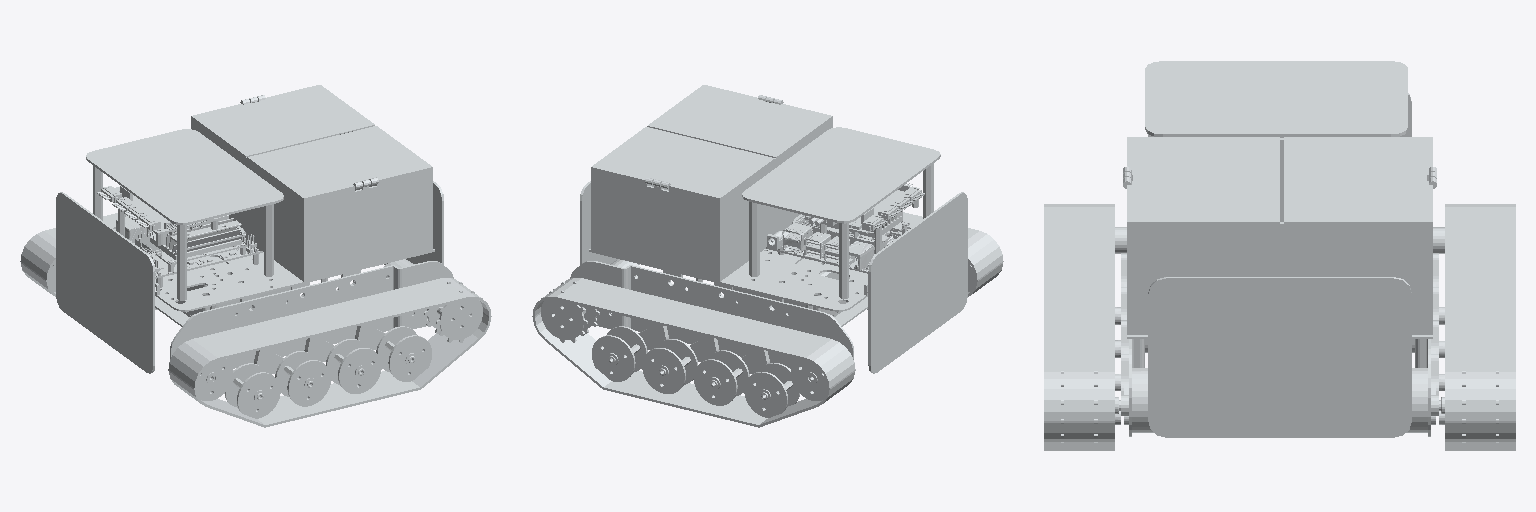
URDF robot description (mid_vel):
<?xml version="1.0" encoding="utf-8"?>
<!-- This URDF was automatically created by SolidWorks to URDF Exporter! Originally created by Stephen Brawner (brawner@gmail.com) 
     Commit Version: 1.6.0-4-g7f85cfe  Build Version: 1.6.7995.38578
     For more information, please see http://wiki.ros.org/sw_urdf_exporter -->
<robot
  name="mid_vel">

  <link name="footbase_link"/>


  <joint name="footbase_to_base_joint" type="fixed">
    <parent link="footbase_link"/>
    <child link="base_link"/>
    <origin xyz="0 0 0.03" rpy="0 0 0"/>
  </joint>

  <link
    name="base_link">
    <inertial>
      <origin
        xyz="0.026311 -0.0029309 0.037082"
        rpy="0 0 0" />
      <mass
        value="2.0626" />
      <inertia
        ixx="0.0036728"
        ixy="-1.6216E-05"
        ixz="9.1245E-06"
        iyy="0.0092421"
        iyz="8.7861E-06"
        izz="0.010609" />
    </inertial>
    <visual>
      <origin
        xyz="0 0 0"
        rpy="0 0 0" />
      <geometry>
        <mesh
          filename="package://mid_vel/meshes/base_link.STL" />
      </geometry>
      <material
        name="">
        <color
          rgba="0.89804 0.91765 0.92941 1" />
      </material>
    </visual>
    <collision>
      <origin
        xyz="0 0 0"
        rpy="0 0 0" />
      <geometry>
        <mesh
          filename="package://mid_vel/meshes/base_link.STL" />
      </geometry>
    </collision>
  </link>
  <link
    name="wh1_Link">
    <inertial>
      <origin
        xyz="-9.7145E-16 1.8735E-16 0.019953"
        rpy="0 0 0" />
      <mass
        value="0.024669" />
      <inertia
        ixx="2.3649E-06"
        ixy="-2.0339E-20"
        ixz="1.2554E-22"
        iyy="2.3649E-06"
        iyz="6.2244E-22"
        izz="2.4669E-06" />
    </inertial>
    <visual>
      <origin
        xyz="0 0 0"
        rpy="0 0 0" />
      <geometry>
        <mesh
          filename="package://mid_vel/meshes/wh1_Link.STL" />
      </geometry>
      <material
        name="">
        <color
          rgba="0.89804 0.91765 0.92941 1" />
      </material>
    </visual>
    <collision>
      <origin
        xyz="0 0 0"
        rpy="0 0 0" />
      <geometry>
        <mesh
          filename="package://mid_vel/meshes/wh1_Link.STL" />
      </geometry>
    </collision>
  </link>
  <joint
    name="wh1_joint"
    type="continuous">
    <origin
      xyz="-0.090325 0.12486 0.0105"
      rpy="1.5708 0 0" />
    <parent
      link="base_link" />
    <child
      link="wh1_Link" />
    <axis
      xyz="0 0 1" />
  </joint>
  <link
    name="wh2_Link">
    <inertial>
      <origin
        xyz="9.0206E-16 8.8818E-16 0.017031"
        rpy="0 0 0" />
      <mass
        value="0.017275" />
      <inertia
        ixx="2.8962E-06"
        ixy="3.8073E-22"
        ixz="1.5306E-21"
        iyy="2.8962E-06"
        iyz="-3.4325E-23"
        izz="2.481E-06" />
    </inertial>
    <visual>
      <origin
        xyz="0 0 0"
        rpy="0 0 0" />
      <geometry>
        <mesh
          filename="package://mid_vel/meshes/wh2_Link.STL" />
      </geometry>
      <material
        name="">
        <color
          rgba="0.89804 0.91765 0.92941 1" />
      </material>
    </visual>
    <collision>
      <origin
        xyz="0 0 0"
        rpy="0 0 0" />
      <geometry>
        <mesh
          filename="package://mid_vel/meshes/wh2_Link.STL" />
      </geometry>
    </collision>
  </link>
  <joint
    name="wh2_joint"
    type="continuous">
    <origin
      xyz="-0.046146 0.12486 -0.016278"
      rpy="1.5708 0 0" />
    <parent
      link="base_link" />
    <child
      link="wh2_Link" />
    <axis
      xyz="0 0 1" />
  </joint>
  <link
    name="wh3_Link">
    <inertial>
      <origin
        xyz="9.0379E-16 8.743E-16 0.017031"
        rpy="0 0 0" />
      <mass
        value="0.017275" />
      <inertia
        ixx="2.8962E-06"
        ixy="4.4193E-22"
        ixz="1.5609E-21"
        iyy="2.8962E-06"
        iyz="-5.2332E-23"
        izz="2.481E-06" />
    </inertial>
    <visual>
      <origin
        xyz="0 0 0"
        rpy="0 0 0" />
      <geometry>
        <mesh
          filename="package://mid_vel/meshes/wh3_Link.STL" />
      </geometry>
      <material
        name="">
        <color
          rgba="0.89804 0.91765 0.92941 1" />
      </material>
    </visual>
    <collision>
      <origin
        xyz="0 0 0"
        rpy="0 0 0" />
      <geometry>
        <mesh
          filename="package://mid_vel/meshes/wh3_Link.STL" />
      </geometry>
    </collision>
  </link>
  <joint
    name="wh3_joint"
    type="continuous">
    <origin
      xyz="-0.001146 0.12486 -0.016278"
      rpy="1.5708 0 0" />
    <parent
      link="base_link" />
    <child
      link="wh3_Link" />
    <axis
      xyz="0 0 1" />
  </joint>
  <link
    name="wh4_Link">
    <inertial>
      <origin
        xyz="9.3675E-16 8.743E-16 0.015531"
        rpy="0 0 0" />
      <mass
        value="0.017275" />
      <inertia
        ixx="2.8962E-06"
        ixy="4.4405E-22"
        ixz="1.5378E-21"
        iyy="2.8962E-06"
        iyz="-4.9563E-23"
        izz="2.481E-06" />
    </inertial>
    <visual>
      <origin
        xyz="0 0 0"
        rpy="0 0 0" />
      <geometry>
        <mesh
          filename="package://mid_vel/meshes/wh4_Link.STL" />
      </geometry>
      <material
        name="">
        <color
          rgba="0.89804 0.91765 0.92941 1" />
      </material>
    </visual>
    <collision>
      <origin
        xyz="0 0 0"
        rpy="0 0 0" />
      <geometry>
        <mesh
          filename="package://mid_vel/meshes/wh4_Link.STL" />
      </geometry>
    </collision>
  </link>
  <joint
    name="wh4_joint"
    type="continuous">
    <origin
      xyz="0.043854 0.12486 -0.016278"
      rpy="1.5708 0 0" />
    <parent
      link="base_link" />
    <child
      link="wh4_Link" />
    <axis
      xyz="0 0 1" />
  </joint>
  <link
    name="wh5_Link">
    <inertial>
      <origin
        xyz="9.4369E-16 8.743E-16 0.015531"
        rpy="0 0 0" />
      <mass
        value="0.017275" />
      <inertia
        ixx="2.8962E-06"
        ixy="3.9252E-22"
        ixz="1.5289E-21"
        iyy="2.8962E-06"
        iyz="-1.4018E-23"
        izz="2.481E-06" />
    </inertial>
    <visual>
      <origin
        xyz="0 0 0"
        rpy="0 0 0" />
      <geometry>
        <mesh
          filename="package://mid_vel/meshes/wh5_Link.STL" />
      </geometry>
      <material
        name="">
        <color
          rgba="0.89804 0.91765 0.92941 1" />
      </material>
    </visual>
    <collision>
      <origin
        xyz="0 0 0"
        rpy="0 0 0" />
      <geometry>
        <mesh
          filename="package://mid_vel/meshes/wh5_Link.STL" />
      </geometry>
    </collision>
  </link>
  <joint
    name="wh5_joint"
    type="continuous">
    <origin
      xyz="0.088854 0.12486 -0.016278"
      rpy="1.5708 0 0" />
    <parent
      link="base_link" />
    <child
      link="wh5_Link" />
    <axis
      xyz="0 0 1" />
  </joint>
  <link
    name="wh6_Link">
    <inertial>
      <origin
        xyz="2.8186E-12 7.0472E-12 0.013031"
        rpy="0 0 0" />
      <mass
        value="0.018562" />
      <inertia
        ixx="1.5501E-06"
        ixy="2.6187E-16"
        ixz="-5.1823E-16"
        iyy="1.5501E-06"
        iyz="-1.2921E-15"
        izz="2.8242E-06" />
    </inertial>
    <visual>
      <origin
        xyz="0 0 0"
        rpy="0 0 0" />
      <geometry>
        <mesh
          filename="package://mid_vel/meshes/wh6_Link.STL" />
      </geometry>
      <material
        name="">
        <color
          rgba="0.89804 0.91765 0.92941 1" />
      </material>
    </visual>
    <collision>
      <origin
        xyz="0 0 0"
        rpy="0 0 0" />
      <geometry>
        <mesh
          filename="package://mid_vel/meshes/wh6_Link.STL" />
      </geometry>
    </collision>
  </link>
  <joint
    name="wh6_joint"
    type="continuous">
    <origin
      xyz="0.13217 0.12466 0.0105"
      rpy="1.5708 0 0" />
    <parent
      link="base_link" />
    <child
      link="wh6_Link" />
    <axis
      xyz="0 0 1" />
  </joint>
  <link
    name="wh7_Link">
    <inertial>
      <origin
        xyz="1.0963E-15 1.8041E-16 -0.019945"
        rpy="0 0 0" />
      <mass
        value="0.024652" />
      <inertia
        ixx="2.3643E-06"
        ixy="1.7908E-20"
        ixz="2.2341E-22"
        iyy="2.3643E-06"
        iyz="1.1221E-21"
        izz="2.4665E-06" />
    </inertial>
    <visual>
      <origin
        xyz="0 0 0"
        rpy="0 0 0" />
      <geometry>
        <mesh
          filename="package://mid_vel/meshes/wh7_Link.STL" />
      </geometry>
      <material
        name="">
        <color
          rgba="0.89804 0.91765 0.92941 1" />
      </material>
    </visual>
    <collision>
      <origin
        xyz="0 0 0"
        rpy="0 0 0" />
      <geometry>
        <mesh
          filename="package://mid_vel/meshes/wh7_Link.STL" />
      </geometry>
    </collision>
  </link>
  <joint
    name="wh7_joint"
    type="continuous">
    <origin
      xyz="-0.090325 -0.125 0.0105"
      rpy="1.5708 0 0" />
    <parent
      link="base_link" />
    <child
      link="wh7_Link" />
    <axis
      xyz="0 0 -1" />
  </joint>
  <link
    name="wh8_Link">
    <inertial>
      <origin
        xyz="-5.9674E-16 -1.1519E-15 -0.015531"
        rpy="0 0 0" />
      <mass
        value="0.017275" />
      <inertia
        ixx="2.8962E-06"
        ixy="-3.8209E-22"
        ixz="1.4565E-21"
        iyy="2.8962E-06"
        iyz="9.4776E-24"
        izz="2.481E-06" />
    </inertial>
    <visual>
      <origin
        xyz="0 0 0"
        rpy="0 0 0" />
      <geometry>
        <mesh
          filename="package://mid_vel/meshes/wh8_Link.STL" />
      </geometry>
      <material
        name="">
        <color
          rgba="0.89804 0.91765 0.92941 1" />
      </material>
    </visual>
    <collision>
      <origin
        xyz="0 0 0"
        rpy="0 0 0" />
      <geometry>
        <mesh
          filename="package://mid_vel/meshes/wh8_Link.STL" />
      </geometry>
    </collision>
  </link>
  <joint
    name="wh8_joint"
    type="continuous">
    <origin
      xyz="-0.046146 -0.125 -0.016278"
      rpy="1.5708 0 0" />
    <parent
      link="base_link" />
    <child
      link="wh8_Link" />
    <axis
      xyz="0 0 -1" />
  </joint>
  <link
    name="wh9_Link">
    <inertial>
      <origin
        xyz="-5.7896E-16 -1.138E-15 -0.015531"
        rpy="0 0 0" />
      <mass
        value="0.017275" />
      <inertia
        ixx="2.8962E-06"
        ixy="-4.204E-22"
        ixz="1.5299E-21"
        iyy="2.8962E-06"
        iyz="6.0999E-23"
        izz="2.481E-06" />
    </inertial>
    <visual>
      <origin
        xyz="0 0 0"
        rpy="0 0 0" />
      <geometry>
        <mesh
          filename="package://mid_vel/meshes/wh9_Link.STL" />
      </geometry>
      <material
        name="">
        <color
          rgba="0.89804 0.91765 0.92941 1" />
      </material>
    </visual>
    <collision>
      <origin
        xyz="0 0 0"
        rpy="0 0 0" />
      <geometry>
        <mesh
          filename="package://mid_vel/meshes/wh9_Link.STL" />
      </geometry>
    </collision>
  </link>
  <joint
    name="wh9_joint"
    type="continuous">
    <origin
      xyz="-0.001146 -0.125 -0.016278"
      rpy="1.5708 0 0" />
    <parent
      link="base_link" />
    <child
      link="wh9_Link" />
    <axis
      xyz="0 0 -1" />
  </joint>
  <link
    name="wh10_Link">
    <inertial>
      <origin
        xyz="-5.8981E-16 -1.1519E-15 -0.015531"
        rpy="0 0 0" />
      <mass
        value="0.017275" />
      <inertia
        ixx="2.8962E-06"
        ixy="-3.8945E-22"
        ixz="1.5279E-21"
        iyy="2.8962E-06"
        iyz="3.3173E-23"
        izz="2.481E-06" />
    </inertial>
    <visual>
      <origin
        xyz="0 0 0"
        rpy="0 0 0" />
      <geometry>
        <mesh
          filename="package://mid_vel/meshes/wh10_Link.STL" />
      </geometry>
      <material
        name="">
        <color
          rgba="0.89804 0.91765 0.92941 1" />
      </material>
    </visual>
    <collision>
      <origin
        xyz="0 0 0"
        rpy="0 0 0" />
      <geometry>
        <mesh
          filename="package://mid_vel/meshes/wh10_Link.STL" />
      </geometry>
    </collision>
  </link>
  <joint
    name="wh10_joint"
    type="continuous">
    <origin
      xyz="0.043854 -0.125 -0.016278"
      rpy="1.5708 0 0" />
    <parent
      link="base_link" />
    <child
      link="wh10_Link" />
    <axis
      xyz="0 0 -1" />
  </joint>
  <link
    name="wh11_Link">
    <inertial>
      <origin
        xyz="-6.1062E-16 -1.1519E-15 -0.015531"
        rpy="0 0 0" />
      <mass
        value="0.017275" />
      <inertia
        ixx="2.8962E-06"
        ixy="-3.9034E-22"
        ixz="1.5279E-21"
        iyy="2.8962E-06"
        iyz="1.4463E-23"
        izz="2.481E-06" />
    </inertial>
    <visual>
      <origin
        xyz="0 0 0"
        rpy="0 0 0" />
      <geometry>
        <mesh
          filename="package://mid_vel/meshes/wh11_Link.STL" />
      </geometry>
      <material
        name="">
        <color
          rgba="0.89804 0.91765 0.92941 1" />
      </material>
    </visual>
    <collision>
      <origin
        xyz="0 0 0"
        rpy="0 0 0" />
      <geometry>
        <mesh
          filename="package://mid_vel/meshes/wh11_Link.STL" />
      </geometry>
    </collision>
  </link>
  <joint
    name="wh11_joint"
    type="continuous">
    <origin
      xyz="0.088854 -0.125 -0.016278"
      rpy="1.5708 0 0" />
    <parent
      link="base_link" />
    <child
      link="wh11_Link" />
    <axis
      xyz="0 0 -1" />
  </joint>
  <link
    name="wh12_Link">
    <inertial>
      <origin
        xyz="-7.7161E-15 4.885E-15 -0.012804"
        rpy="0 0 0" />
      <mass
        value="0.020392" />
      <inertia
        ixx="1.6011E-06"
        ixy="-8.2636E-19"
        ixz="-3.19E-19"
        iyy="1.6011E-06"
        iyz="1.155E-18"
        izz="2.8377E-06" />
    </inertial>
    <visual>
      <origin
        xyz="0 0 0"
        rpy="0 0 0" />
      <geometry>
        <mesh
          filename="package://mid_vel/meshes/wh12_Link.STL" />
      </geometry>
      <material
        name="">
        <color
          rgba="0.89804 0.91765 0.92941 1" />
      </material>
    </visual>
    <collision>
      <origin
        xyz="0 0 0"
        rpy="0 0 0" />
      <geometry>
        <mesh
          filename="package://mid_vel/meshes/wh12_Link.STL" />
      </geometry>
    </collision>
  </link>
  <joint
    name="wh12_joint"
    type="continuous">
    <origin
      xyz="0.13217 -0.1248 0.0105"
      rpy="1.5708 0 0" />
    <parent
      link="base_link" />
    <child
      link="wh12_Link" />
    <axis
      xyz="0 0 -1" />
  </joint>
  <link
    name="imu_Link">
    <inertial>
      <origin
        xyz="-0.0016587 0.0035463 0.001359"
        rpy="0 0 0" />
      <mass
        value="0.053369" />
      <inertia
        ixx="3.5938E-05"
        ixy="8.4855E-07"
        ixz="-8.9893E-07"
        iyy="1.9163E-05"
        iyz="8.83E-07"
        izz="5.2579E-05" />
    </inertial>
    <visual>
      <origin
        xyz="0 0 0"
        rpy="0 0 0" />
      <geometry>
        <mesh
          filename="package://mid_vel/meshes/imu_Link.STL" />
      </geometry>
      <material
        name="">
        <color
          rgba="0.89804 0.91765 0.92941 1" />
      </material>
    </visual>
    <collision>
      <origin
        xyz="0 0 0"
        rpy="0 0 0" />
      <geometry>
        <mesh
          filename="package://mid_vel/meshes/imu_Link.STL" />
      </geometry>
    </collision>
  </link>
  <joint
    name="imu_joint"
    type="fixed">
    <origin
      xyz="-0.062457 -0.0024843 0.10118"
      rpy="0 0 0" />
    <parent
      link="base_link" />
    <child
      link="imu_Link" />
    <axis
      xyz="0 0 0" />
  </joint>
  <link
    name="contorl_Link">
    <inertial>
      <origin
        xyz="0.0035953 0.009045 -0.012657"
        rpy="0 0 0" />
      <mass
        value="0.0015511" />
      <inertia
        ixx="1.5915E-08"
        ixy="5.898E-27"
        ixz="3.6179E-23"
        iyy="1.5915E-08"
        iyz="4.2409E-25"
        izz="5.4092E-09" />
    </inertial>
    <visual>
      <origin
        xyz="0 0 0"
        rpy="0 0 0" />
      <geometry>
        <mesh
          filename="package://mid_vel/meshes/contorl_Link.STL" />
      </geometry>
      <material
        name="">
        <color
          rgba="0.89804 0.91765 0.92941 1" />
      </material>
    </visual>
    <collision>
      <origin
        xyz="0 0 0"
        rpy="0 0 0" />
      <geometry>
        <mesh
          filename="package://mid_vel/meshes/contorl_Link.STL" />
      </geometry>
    </collision>
  </link>
  <joint
    name="contorl_joint"
    type="fixed">
    <origin
      xyz="-0.045863 -0.02051 0.071271"
      rpy="0 0 0" />
    <parent
      link="base_link" />
    <child
      link="contorl_Link" />
    <axis
      xyz="0 0 0" />
  </joint>
  <gazebo reference="base_link">
    <material>Gazebo/Grey</material>
    <mu1>0.0</mu1>
    <mu2>0.0</mu2>
    <kp>1000000.0</kp>
    <kd>100.0</kd>
    <minDepth>0.001</minDepth>
    <maxVel>1.0</maxVel>
  </gazebo>

  <gazebo reference="wh1_Link">
    <mu1>2.0</mu1><mu2>1.0</mu2>
    <kp>100000.0</kp><kd>10.0</kd>
    <minDepth>0.001</minDepth><maxVel>0.1</maxVel>
    <material>Gazebo/DarkGrey</material>
  </gazebo>
  <gazebo reference="wh2_Link">
    <mu1>2.0</mu1><mu2>1.0</mu2>
    <kp>100000.0</kp><kd>10.0</kd>
    <minDepth>0.001</minDepth><maxVel>0.1</maxVel>
    <material>Gazebo/DarkGrey</material>
  </gazebo>
  <gazebo reference="wh3_Link">
    <mu1>2.0</mu1><mu2>1.0</mu2>
    <kp>100000.0</kp><kd>10.0</kd>
    <minDepth>0.001</minDepth><maxVel>0.1</maxVel>
    <material>Gazebo/DarkGrey</material>
  </gazebo>
  <gazebo reference="wh4_Link">
    <mu1>2.0</mu1><mu2>1.0</mu2>
    <kp>100000.0</kp><kd>10.0</kd>
    <minDepth>0.001</minDepth><maxVel>0.1</maxVel>
    <material>Gazebo/DarkGrey</material>
  </gazebo>
  <gazebo reference="wh5_Link">
    <mu1>2.0</mu1><mu2>1.0</mu2>
    <kp>100000.0</kp><kd>10.0</kd>
    <minDepth>0.001</minDepth><maxVel>0.1</maxVel>
    <material>Gazebo/DarkGrey</material>
  </gazebo>
  <gazebo reference="wh6_Link">
    <mu1>2.0</mu1><mu2>1.0</mu2>
    <kp>100000.0</kp><kd>10.0</kd>
    <minDepth>0.001</minDepth><maxVel>0.1</maxVel>
    <material>Gazebo/DarkGrey</material>
  </gazebo>

  <gazebo reference="wh7_Link">
    <mu1>2.0</mu1><mu2>1.0</mu2>
    <kp>100000.0</kp><kd>10.0</kd>
    <minDepth>0.001</minDepth><maxVel>0.1</maxVel>
    <material>Gazebo/DarkGrey</material>
  </gazebo>
  <gazebo reference="wh8_Link">
    <mu1>2.0</mu1><mu2>1.0</mu2>
    <kp>100000.0</kp><kd>10.0</kd>
    <minDepth>0.001</minDepth><maxVel>0.1</maxVel>
    <material>Gazebo/DarkGrey</material>
  </gazebo>
  <gazebo reference="wh9_Link">
    <mu1>2.0</mu1><mu2>1.0</mu2>
    <kp>100000.0</kp><kd>10.0</kd>
    <minDepth>0.001</minDepth><maxVel>0.1</maxVel>
    <material>Gazebo/DarkGrey</material>
  </gazebo>
  <gazebo reference="wh10_Link">
    <mu1>2.0</mu1><mu2>1.0</mu2>
    <kp>100000.0</kp><kd>10.0</kd>
    <minDepth>0.001</minDepth><maxVel>0.1</maxVel>
    <material>Gazebo/DarkGrey</material>
  </gazebo>
  <gazebo reference="wh11_Link">
    <mu1>2.0</mu1><mu2>1.0</mu2>
    <kp>100000.0</kp><kd>10.0</kd>
    <minDepth>0.001</minDepth><maxVel>0.1</maxVel>
    <material>Gazebo/DarkGrey</material>
  </gazebo>
  <gazebo reference="wh12_Link">
    <mu1>2.0</mu1><mu2>1.0</mu2>
    <kp>100000.0</kp><kd>10.0</kd>
    <minDepth>0.001</minDepth><maxVel>0.1</maxVel>
    <material>Gazebo/DarkGrey</material>
  </gazebo>

  <gazebo>
    <plugin name="planar_move" filename="libgazebo_ros_planar_move.so">
      <commandTopic>cmd_vel</commandTopic>
      <odometryTopic>odom</odometryTopic>
      <odometryFrame>odom</odometryFrame>
      <robotBaseFrame>base_link</robotBaseFrame>
      <odometryRate>50.0</odometryRate>
      <publishOdomTF>true</publishOdomTF>
    </plugin>
  </gazebo>

  <gazebo>
    <plugin name="p3d_base_controller" filename="libgazebo_ros_p3d.so">
      <alwaysOn>true</alwaysOn>
      <updateRate>50.0</updateRate>
      <bodyName>base_link</bodyName>
      <topicName>ground_truth/state</topicName>
      <gaussianNoise>0.01</gaussianNoise>
      <frameName>world</frameName>
      <xyzOffset>0 0 0</xyzOffset>
      <rpyOffset>0 0 0</rpyOffset>
    </plugin>
  </gazebo>

  <gazebo>
    <plugin name="joint_state_publisher" filename="libgazebo_ros_joint_state_publisher.so">
      <update_rate>50</update_rate>
      <joint_name>wh1_joint</joint_name>
      <joint_name>wh2_joint</joint_name>
      <joint_name>wh3_joint</joint_name>
      <joint_name>wh4_joint</joint_name>
      <joint_name>wh5_joint</joint_name>
      <joint_name>wh6_joint</joint_name>
      <joint_name>wh7_joint</joint_name>
      <joint_name>wh8_joint</joint_name>
      <joint_name>wh9_joint</joint_name>
      <joint_name>wh10_joint</joint_name>
      <joint_name>wh11_joint</joint_name>
      <joint_name>wh12_joint</joint_name>
    </plugin>
  </gazebo>

  <gazebo reference="imu_Link">
    <gravity>true</gravity>
    <sensor name="imu" type="imu">
      <always_on>true</always_on>
      <update_rate>200</update_rate>
      <visualize>true</visualize>
      <topic>__default_topic__</topic>
      <plugin filename="libgazebo_ros_imu_sensor.so" name="imu_plugin">
        <topicName>imu</topicName>
        <bodyName>imu_Link</bodyName>
        <updateRateHZ>50.0</updateRateHZ>
        <gaussianNoise>0.0</gaussianNoise>
        <xyzOffset>0 0 0</xyzOffset>
        <rpyOffset>0 0 0</rpyOffset>
        <frameName>imu_Link</frameName>
        <initialOrientationAsReference>false</initialOrientationAsReference>
      </plugin>
      <pose>0 0 0 0 0 0</pose>
    </sensor>
  </gazebo>

</robot>

--- Facts derived from the render (not from the file) ---
The picture shows the robot from 3 angles, left to right: view 1: azimuth 30°, elevation 25°; view 2: azimuth 150°, elevation 25°; view 3: azimuth 270°, elevation 25°; orthographic projection.
Robot: mid_vel — 16 links, 15 joints (12 continuous, 3 fixed); root link footbase_link; default pose: all joints at 0.
Links seen in each view (by area): view 1: base_link, contorl_Link, wh9_Link, wh10_Link, wh11_Link, wh8_Link, imu_Link, wh12_Link, wh7_Link; view 2: base_link, contorl_Link, wh4_Link, wh3_Link, wh5_Link, wh2_Link, imu_Link, wh6_Link, wh1_Link; view 3: base_link.
Link boxes in pixels (x1,y1,x2,y2): base_link: (20, 85, 491, 427); contorl_Link: (116, 215, 262, 287); wh9_Link: (275, 351, 330, 406); wh10_Link: (326, 339, 381, 393); wh11_Link: (376, 326, 431, 381); wh8_Link: (225, 363, 280, 418); imu_Link: (97, 185, 220, 245); wh12_Link: (424, 281, 482, 342); wh7_Link: (197, 358, 232, 400); base_link: (532, 85, 1003, 427); contorl_Link: (766, 211, 909, 273); wh4_Link: (642, 339, 697, 393); wh3_Link: (694, 350, 749, 405); wh5_Link: (592, 326, 647, 381); wh2_Link: (744, 363, 799, 417); imu_Link: (804, 183, 924, 253); wh6_Link: (541, 281, 599, 342); wh1_Link: (791, 358, 826, 400); base_link: (1044, 61, 1515, 450).
Bounding box of the posed robot: 0.268 × 0.2681 × 0.164 m (x, y, z).
15 mesh visuals loaded from 15 distinct referenced files (15 binary STL).
